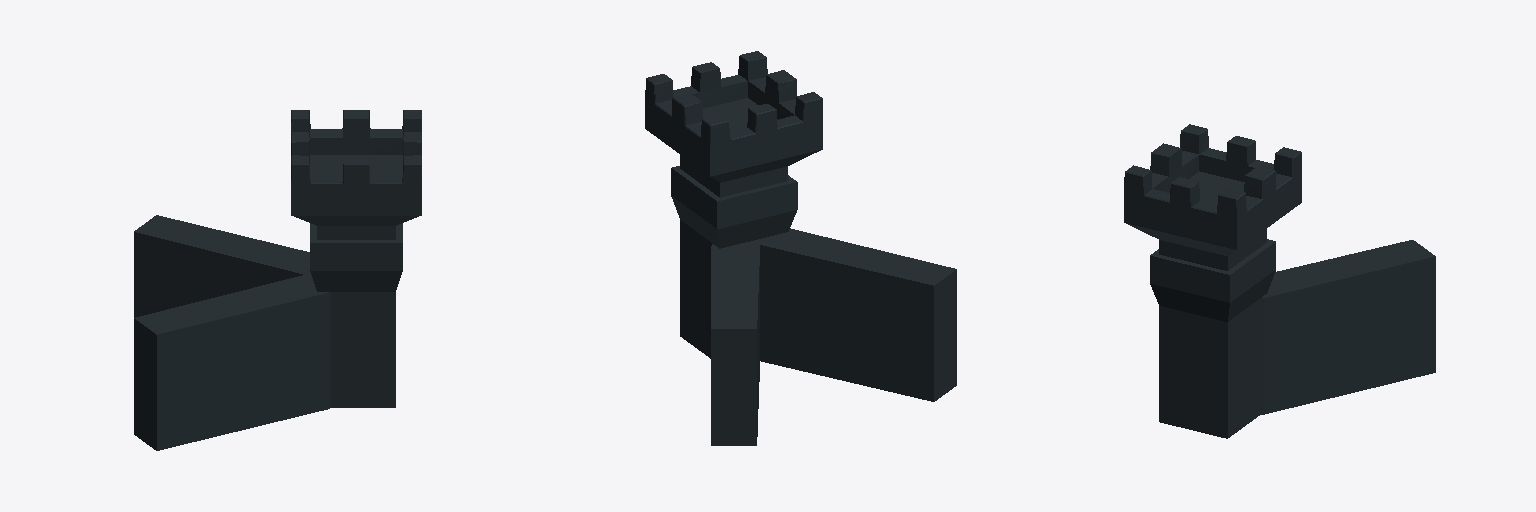
Rendered from wall_hexCornerB.obj.
3 renders of one model, left to right at view 1: azimuth 30°, elevation 25°; view 2: azimuth 150°, elevation 25°; view 3: azimuth 270°, elevation 25°, orthographic.
Parts seen in each view (by area): view 1: wall_hexCornerB_Cube.410; view 2: wall_hexCornerB_Cube.410; view 3: wall_hexCornerB_Cube.410.
Boxes of the visible parts, <box> form: wall_hexCornerB_Cube.410: <box>134,110,421,450</box>; wall_hexCornerB_Cube.410: <box>645,51,956,445</box>; wall_hexCornerB_Cube.410: <box>1124,124,1435,438</box>.
Bounding box in the file's own units: 1.36 × 1.15 × 1.28.